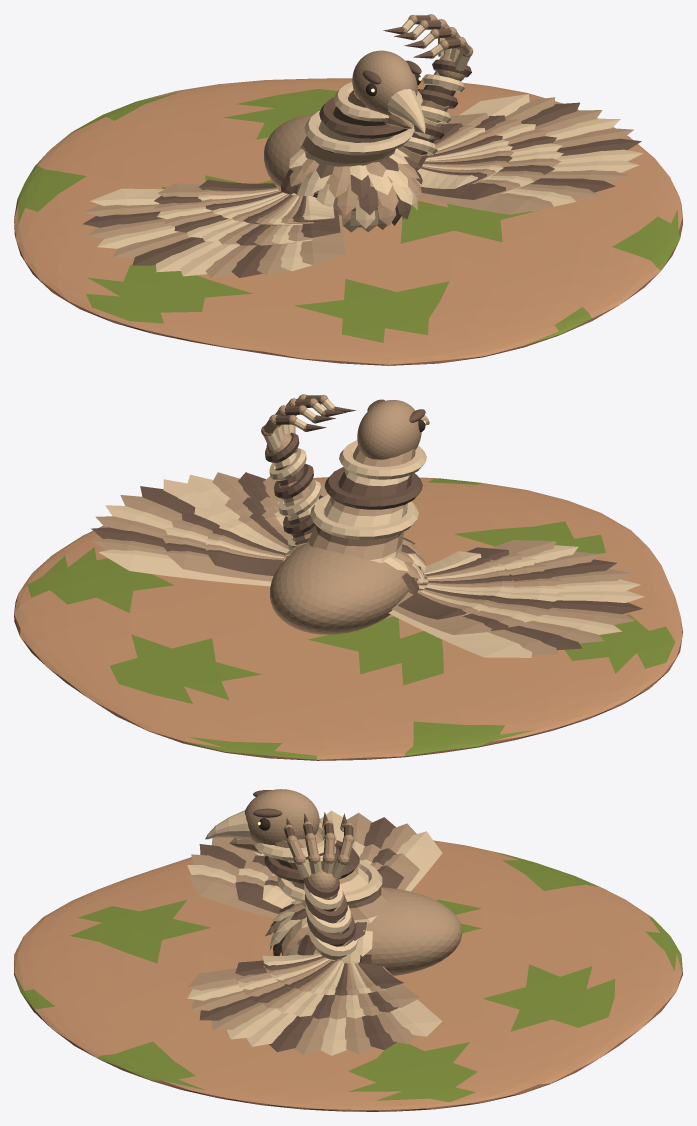
The model's file is eagle_statue.glb.
The picture shows the model from 3 angles, top to bottom: view 1: azimuth 30°, elevation 25°; view 2: azimuth 150°, elevation 25°; view 3: azimuth 270°, elevation 25°; orthographic projection. The views are drawn at different scales.
Visible parts, largest first — view 1: base__statue_base_rock_light_flat, base__statue_moss_flat, wing_R__statue_stone_mid_flat, wing_L__statue_stone_mid_flat, wing_L__statue_stone_light_flat, wing_R__statue_stone_light_flat, wing_L__statue_stone_dark_flat, wing_R__statue_stone_dark_flat, body__statue_stone_mid_flat, head__statue_stone_light_flat, head__statue_stone_mid_flat, body__statue_stone_light_flat (+6 smaller); view 2: base__statue_base_rock_light_flat, base__statue_moss_flat, body__statue_stone_mid_flat, wing_L__statue_stone_mid_flat, wing_L__statue_stone_light_flat, wing_R__statue_stone_mid_flat, wing_R__statue_stone_light_flat, wing_L__statue_stone_dark_flat, head__statue_stone_mid_flat, head__statue_stone_light_flat, wing_R__statue_stone_dark_flat, head__statue_stone_dark_flat (+4 smaller); view 3: base__statue_base_rock_light_flat, base__statue_moss_flat, wing_R__statue_stone_mid_flat, wing_R__statue_stone_light_flat, body__statue_stone_mid_flat, wing_R__statue_stone_dark_flat, wing_L__statue_stone_mid_flat, head__statue_stone_mid_flat, head__statue_stone_light_flat, wing_L__statue_stone_light_flat, wing_L__statue_stone_dark_flat, claw__statue_stone_light_flat (+6 smaller).
Boxes of the visible parts, x1,y1,x2,y2 form: base__statue_base_rock_light_flat: (14,78,682,364); base__statue_moss_flat: (17,89,679,344); wing_R__statue_stone_mid_flat: (417,97,633,214); wing_L__statue_stone_mid_flat: (84,183,345,278); wing_L__statue_stone_light_flat: (90,188,334,276); wing_R__statue_stone_light_flat: (417,94,643,211); wing_L__statue_stone_dark_flat: (82,179,340,277); wing_R__statue_stone_dark_flat: (420,102,641,199); body__statue_stone_mid_flat: (264,114,422,229); head__statue_stone_light_flat: (300,82,425,166); head__statue_stone_mid_flat: (303,50,417,163); body__statue_stone_light_flat: (289,148,420,232); base__statue_base_rock_light_flat: (14,477,682,759); base__statue_moss_flat: (27,478,675,759); body__statue_stone_mid_flat: (270,539,426,634); wing_L__statue_stone_mid_flat: (392,540,634,654); wing_L__statue_stone_light_flat: (388,545,644,657); wing_R__statue_stone_mid_flat: (92,472,327,581); wing_R__statue_stone_light_flat: (98,474,289,586); wing_L__statue_stone_dark_flat: (398,547,642,650); head__statue_stone_mid_flat: (308,400,421,560); head__statue_stone_light_flat: (306,415,429,563); wing_R__statue_stone_dark_flat: (91,472,291,575); head__statue_stone_dark_flat: (315,399,425,546); base__statue_base_rock_light_flat: (14,840,681,1110); base__statue_moss_flat: (15,852,681,1102); wing_R__statue_stone_mid_flat: (187,957,419,1054); wing_R__statue_stone_light_flat: (187,954,442,1055); body__statue_stone_mid_flat: (265,887,462,975); wing_R__statue_stone_dark_flat: (199,956,403,1051); wing_L__statue_stone_mid_flat: (187,812,419,918); head__statue_stone_mid_flat: (229,789,387,920); head__statue_stone_light_flat: (205,810,382,923); wing_L__statue_stone_light_flat: (187,810,442,908); wing_L__statue_stone_dark_flat: (199,817,403,913); claw__statue_stone_light_flat: (293,824,358,956).
Size of the model in its own units: 43.96 by 14.15 by 44.92.
